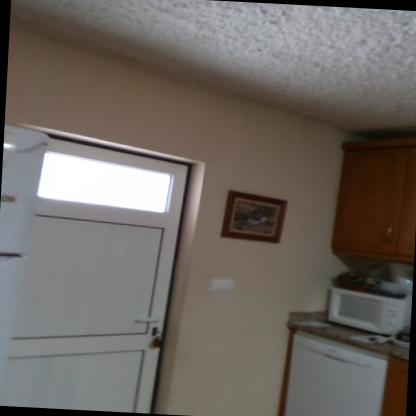closed: (0, 133, 211, 407), (258, 304, 411, 416)
